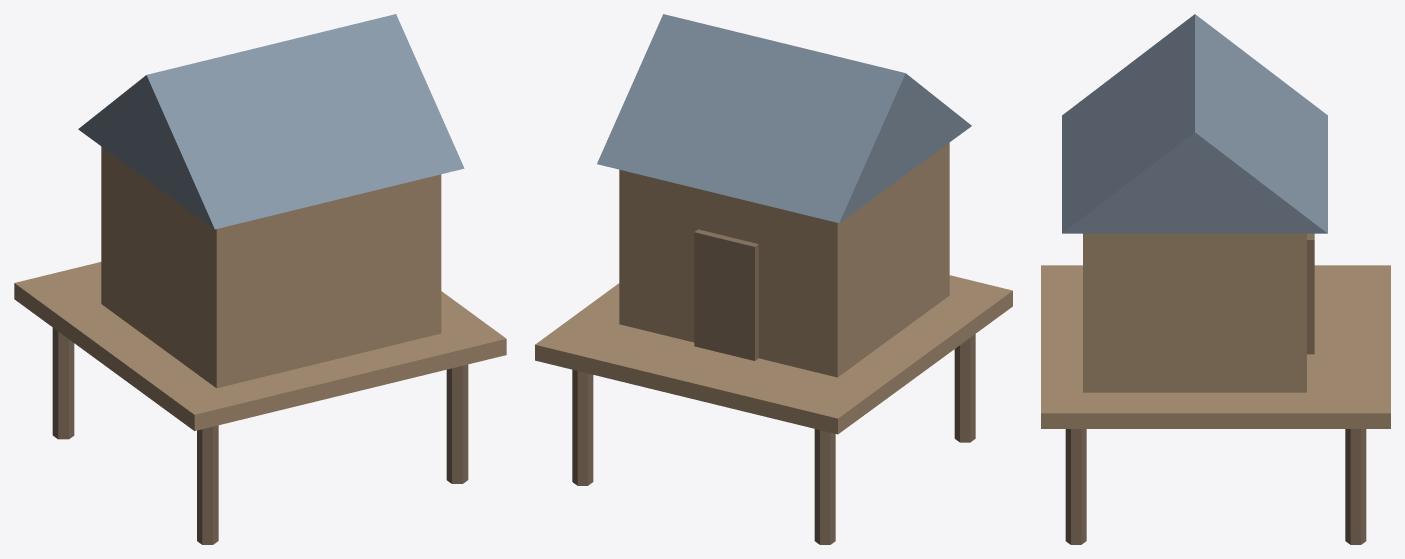
3 renders of one model, left to right at view 1: azimuth 30°, elevation 25°; view 2: azimuth 150°, elevation 25°; view 3: azimuth 270°, elevation 25°, orthographic. The views are drawn at different scales.
Parts seen in each view (by area): view 1: structure.pier_hut; view 2: structure.pier_hut; view 3: structure.pier_hut.
Boxes of the visible parts, x1=… form: structure.pier_hut: x1=14, y1=14, x2=506, y2=544; structure.pier_hut: x1=535, y1=14, x2=1012, y2=544; structure.pier_hut: x1=1041, y1=14, x2=1390, y2=544.
Size of the model in its own units: 5 by 6.45 by 5.
